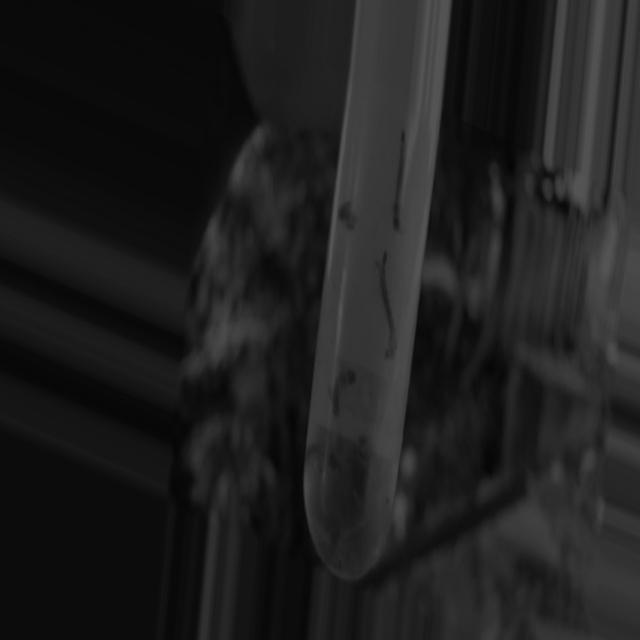larvas: (380, 254, 396, 363), (391, 133, 405, 227), (332, 372, 354, 414), (311, 442, 339, 466), (339, 202, 355, 228)
